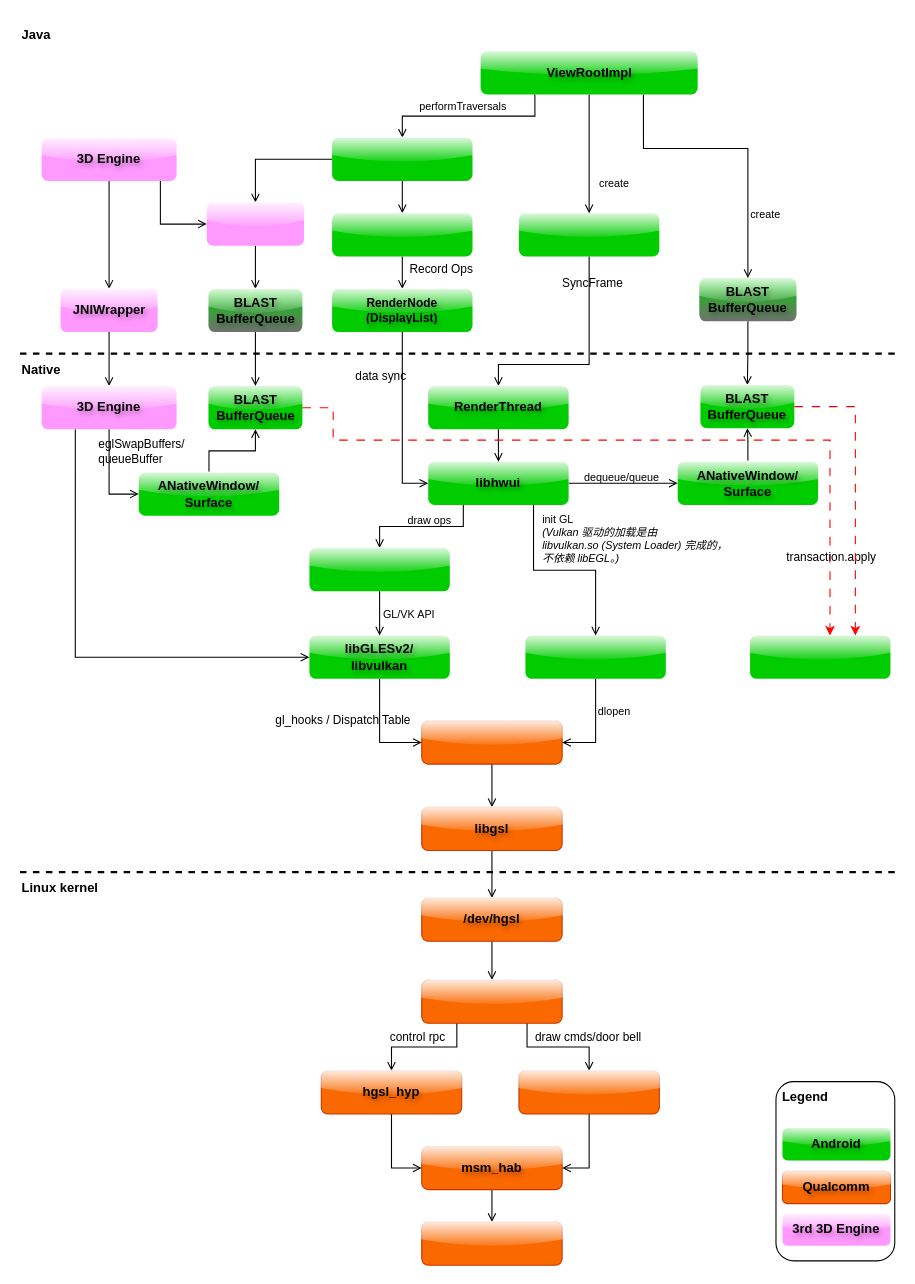
Image size: 915x1284. Some labels were removed from this diagram. Each missing label, with the centre of its shape:
Canvas (RecordingCanvas): (x=402, y=234)
gh_dbl: (x=491, y=1243)
libEGL: (x=595, y=656)
libGLESv2_adreno/ vulkan.adreno: (x=491, y=742)
libskia: (x=379, y=569)
qcom_hgsl: (x=491, y=1001)
shared memory queue: (x=588, y=1092)
SurfaceFlinger: (x=820, y=656)
SurfaceView: (x=254, y=223)
ThreadedRenderer: (x=588, y=234)
ViewTree: (x=402, y=158)
